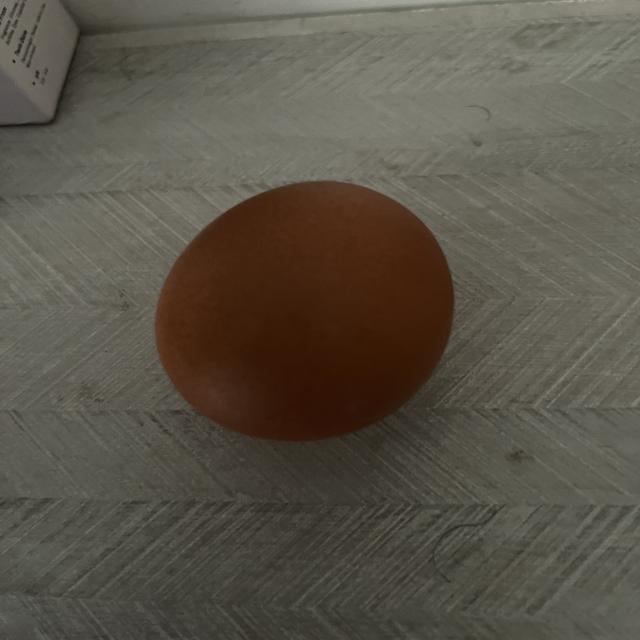Egg: (151, 174, 457, 448)
